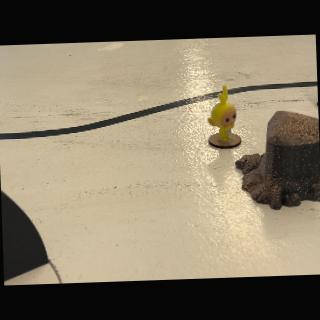teletubby: (208, 86, 236, 142)
